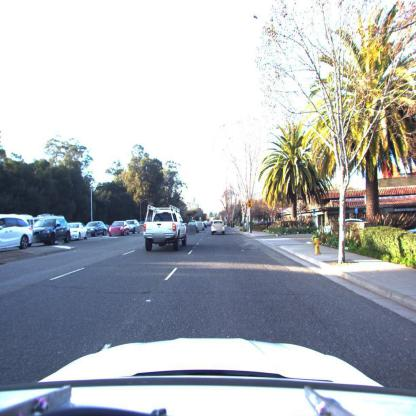car: (0, 216, 34, 252), (32, 217, 71, 247), (68, 222, 88, 241), (85, 222, 110, 237), (110, 222, 130, 237), (124, 220, 139, 233), (212, 220, 225, 235)
fire hydrant: (312, 237, 322, 255)
sign: (247, 199, 254, 209)
truck: (142, 207, 187, 252)
